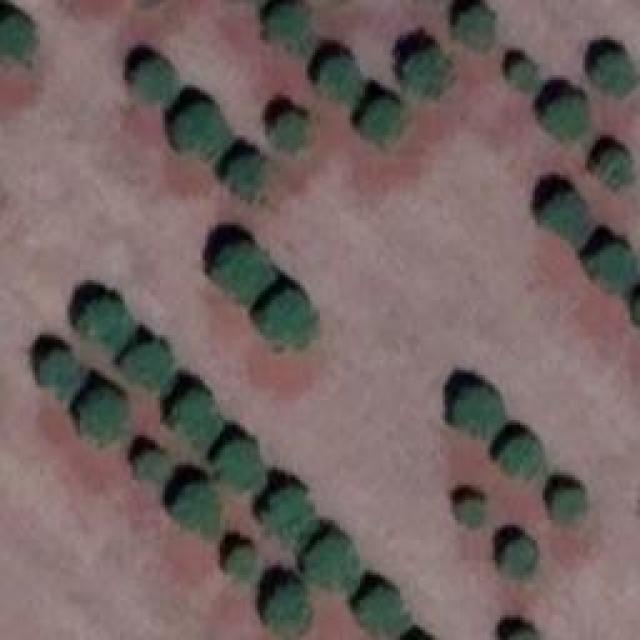Tree: (218, 245, 273, 298), (177, 103, 225, 163), (265, 287, 313, 345), (308, 540, 361, 588), (455, 385, 500, 440), (175, 393, 220, 446), (268, 490, 311, 545), (178, 483, 221, 538), (545, 197, 593, 245), (217, 443, 265, 488), (592, 245, 640, 290), (128, 345, 173, 390), (85, 303, 130, 348), (268, 585, 308, 635), (318, 58, 361, 103), (360, 590, 403, 633), (138, 60, 178, 105), (270, 3, 310, 48), (40, 353, 83, 393), (545, 98, 588, 138), (85, 390, 123, 435), (500, 437, 543, 475), (407, 53, 445, 93), (500, 535, 538, 575), (230, 158, 265, 198), (595, 55, 630, 93), (0, 17, 32, 57), (455, 10, 490, 45), (140, 453, 175, 486), (553, 488, 586, 523), (598, 150, 631, 183), (368, 100, 401, 133), (275, 118, 308, 148), (230, 550, 255, 580), (510, 60, 535, 88), (457, 500, 485, 525), (500, 625, 539, 639)
